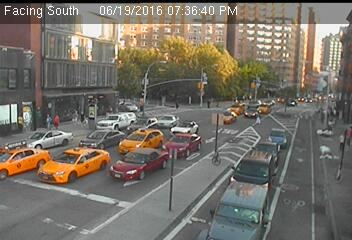neg: (111, 125, 132, 152), (87, 99, 104, 122), (9, 112, 26, 134), (44, 60, 58, 78), (97, 141, 110, 158), (146, 121, 159, 138), (127, 109, 139, 126), (114, 114, 124, 127), (111, 81, 120, 93), (215, 99, 224, 110), (140, 88, 148, 98)
pos: (48, 110, 65, 132), (251, 108, 267, 130), (42, 112, 57, 132), (76, 109, 91, 129), (69, 108, 82, 127), (171, 99, 183, 114)
